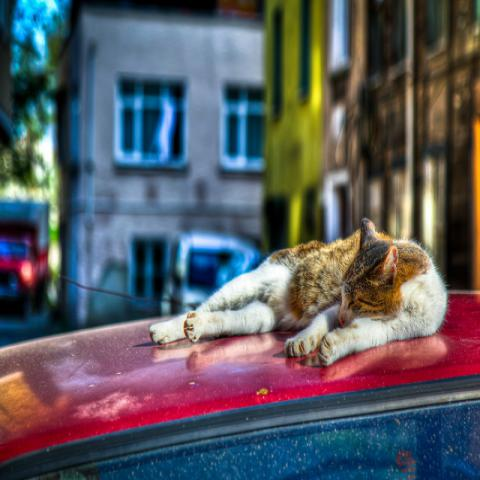car: (0, 290, 479, 476)
truck: (162, 231, 261, 314), (0, 200, 48, 321)
